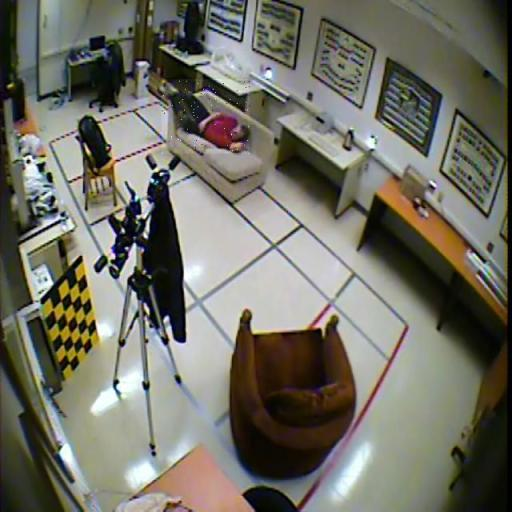Fall: (162, 79, 250, 154)
